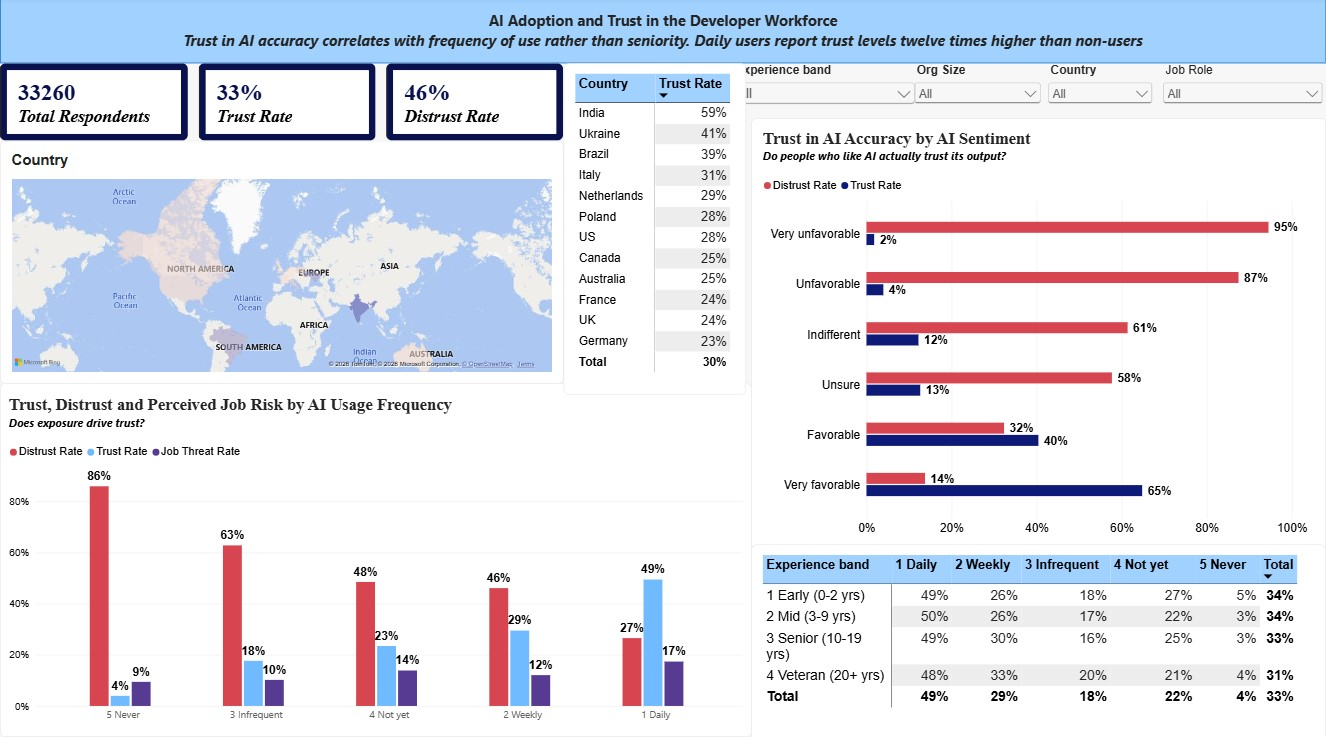

What the dashboard file says about the page in this screenshot:
{"tool":"powerbi","page":{"name":"Page 2","canvas":[1920,1080],"ordinal":0},"visuals":[{"type":"shape","box":[0,0,1920,96],"z":0},{"type":"textbox","box":[0,0,1920,96],"z":1000},{"type":"slicer","fields":{"Values":["ai_usage_survey.experience_band"]},"box":[1056,96,272,64],"z":2000},{"type":"slicer","fields":{"Values":["ai_usage_survey.dev_role"]},"box":[1680,96,240,64],"z":3000},{"type":"slicer","fields":{"Values":["ai_usage_survey.country"]},"box":[1512,96,160,64],"z":4000},{"type":"slicer","fields":{"Values":["ai_usage_survey.org_size"]},"box":[1320,96,192,64],"z":5000},{"type":"cardVisual","fields":{"Data":["ai_usage_survey.Total Respondents"]},"box":[0,96,272,112],"z":6000},{"type":"cardVisual","fields":{"Data":["ai_usage_survey.Trust Rate"]},"box":[288,96,256,112],"z":7000},{"type":"clusteredColumnChart","title":"Trust, Distrust and Perceived Job Risk by AI Usage Frequency","fields":{"Category":["ai_usage_survey.ai_usage"],"Y":["ai_usage_survey.Distrust Rate","ai_usage_survey.Trust Rate","ai_usage_survey.Job Threat Rate"]},"box":[0,560,1088,512],"z":9000},{"type":"clusteredBarChart","title":"Trust in AI Accuracy by AI Sentiment","fields":{"Category":["ai_usage_survey.ai_sentiment"],"Y":["ai_usage_survey.Distrust Rate","ai_usage_survey.Trust Rate"]},"box":[1088,176,832,624],"z":10000},{"type":"pivotTable","fields":{"Rows":["ai_usage_survey.Experience band"],"Columns":["ai_usage_survey.ai_usage"],"Values":["ai_usage_survey.Trust Rate"]},"box":[1088,792,832,288],"z":11000},{"type":"filledMap","fields":{"Category":["ai_usage_survey.Country"]},"box":[0,208,816,352],"z":12000},{"type":"pivotTable","fields":{"Rows":["ai_usage_survey.Country"],"Values":["ai_usage_survey.Trust Rate"]},"box":[816,96,264,480],"z":13000},{"type":"cardVisual","fields":{"Data":["ai_usage_survey.Distrust Rate"]},"box":[560,96,256,112],"z":13001}]}

Visuals, with their boxes in screenshot pixels (x1, y1, x2, y2), scaled from the page's 1920x1080 canvas onto the 1326x737 screenshot:
shape: (x1=0, y1=0, x2=1325, y2=66)
textbox: (x1=0, y1=0, x2=1325, y2=66)
slicer - ai_usage_survey.experience_band: (x1=729, y1=66, x2=917, y2=109)
slicer - ai_usage_survey.dev_role: (x1=1160, y1=66, x2=1325, y2=109)
slicer - ai_usage_survey.country: (x1=1044, y1=66, x2=1155, y2=109)
slicer - ai_usage_survey.org_size: (x1=912, y1=66, x2=1044, y2=109)
cardVisual - ai_usage_survey.Total Respondents: (x1=0, y1=66, x2=188, y2=142)
cardVisual - ai_usage_survey.Trust Rate: (x1=199, y1=66, x2=376, y2=142)
"Trust, Distrust and Perceived Job Risk by AI Usage Frequency" clusteredColumnChart: (x1=0, y1=382, x2=751, y2=732)
"Trust in AI Accuracy by AI Sentiment" clusteredBarChart: (x1=751, y1=120, x2=1325, y2=546)
pivotTable - ai_usage_survey.Experience band x ai_usage_survey.ai_usage: (x1=751, y1=540, x2=1325, y2=736)
filledMap - ai_usage_survey.Country: (x1=0, y1=142, x2=564, y2=382)
pivotTable - ai_usage_survey.Country x ai_usage_survey.Trust Rate: (x1=564, y1=66, x2=746, y2=393)
cardVisual - ai_usage_survey.Distrust Rate: (x1=387, y1=66, x2=564, y2=142)
